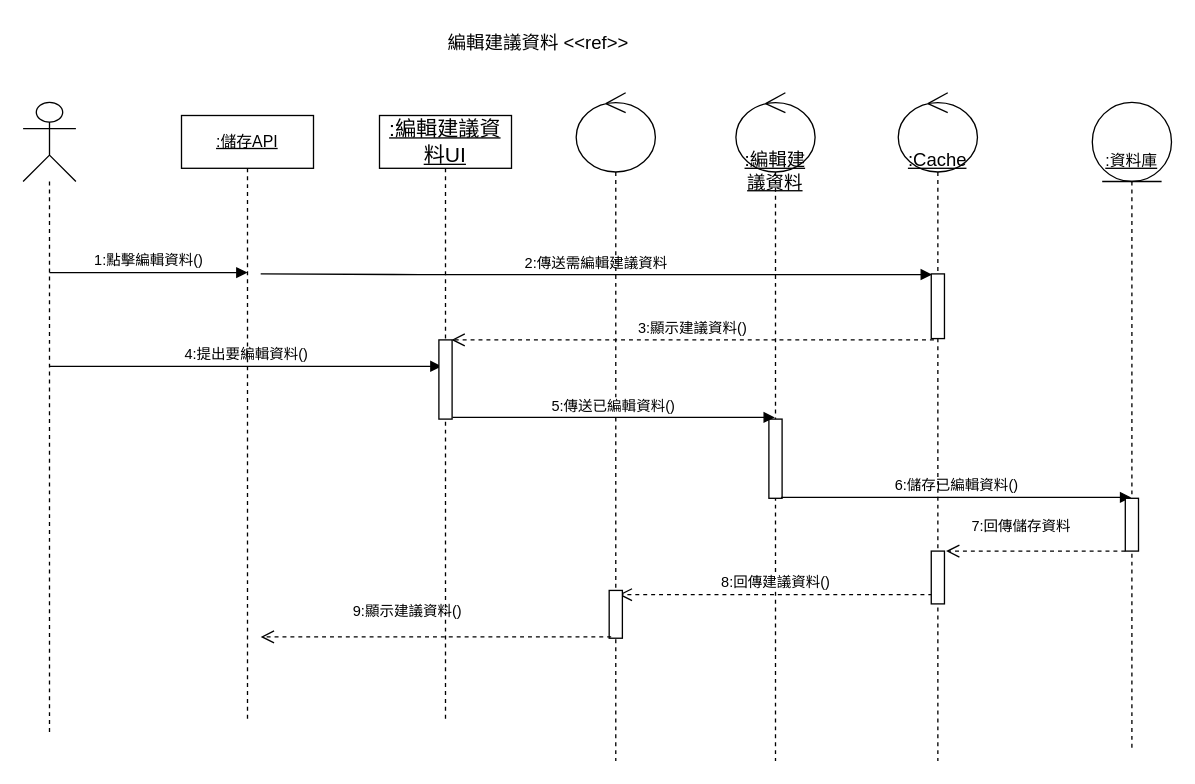
The diagram is 1195 pixels wide and 784 high, and some of its shapes have lost their labels. Here are the shapes that lost their labels. From the top down, the box of each, then its label:
(22, 101, 76, 736): :老師
(575, 91, 655, 761): :顯示
